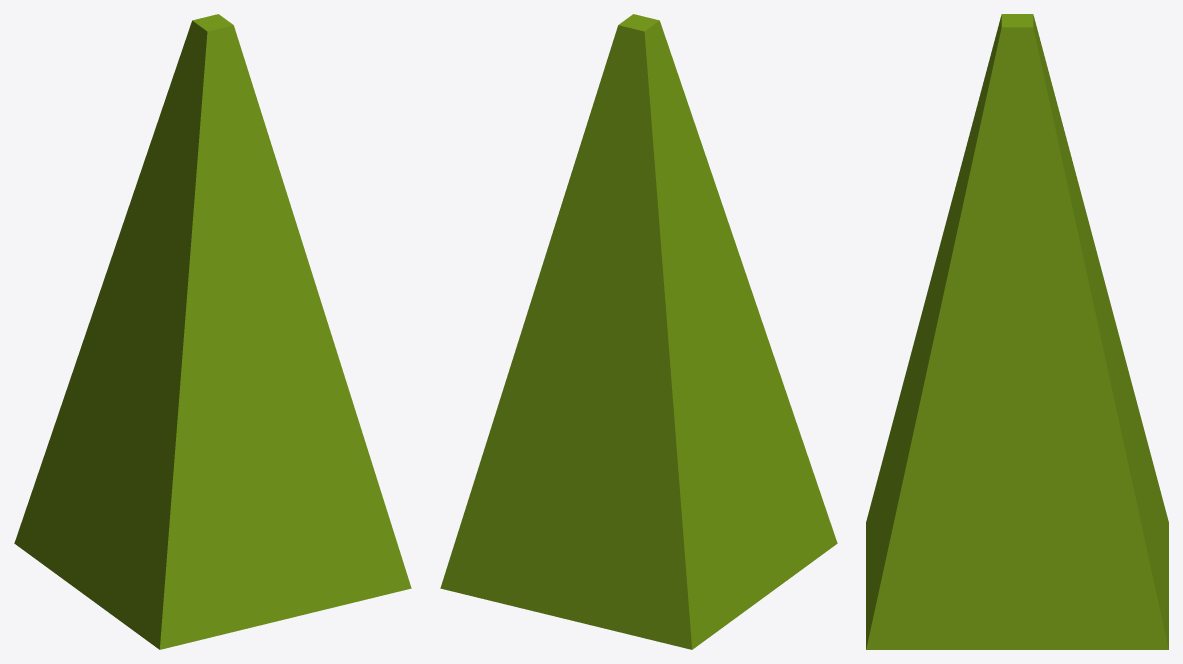
File: tree-summer-leaves-015.glb
3 views of the same model, side by side, from view 1: azimuth 30°, elevation 25°; view 2: azimuth 150°, elevation 25°; view 3: azimuth 270°, elevation 25° (orthographic). The views are drawn at different scales.
Parts seen in each view (by area): view 1: Cube.010_239; view 2: Cube.010_239; view 3: Cube.010_239.
Part boxes in pixels (<box>): Cube.010_239: <box>14,14,411,649</box>; Cube.010_239: <box>440,14,837,649</box>; Cube.010_239: <box>866,14,1168,649</box>.
Size of the model in its own units: 0.617 by 1.27 by 0.617.
